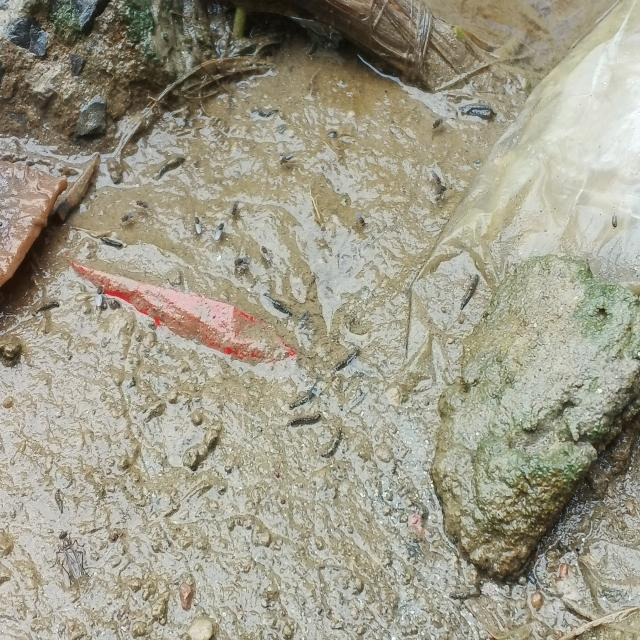Breeding Place: (0, 60, 640, 640)
